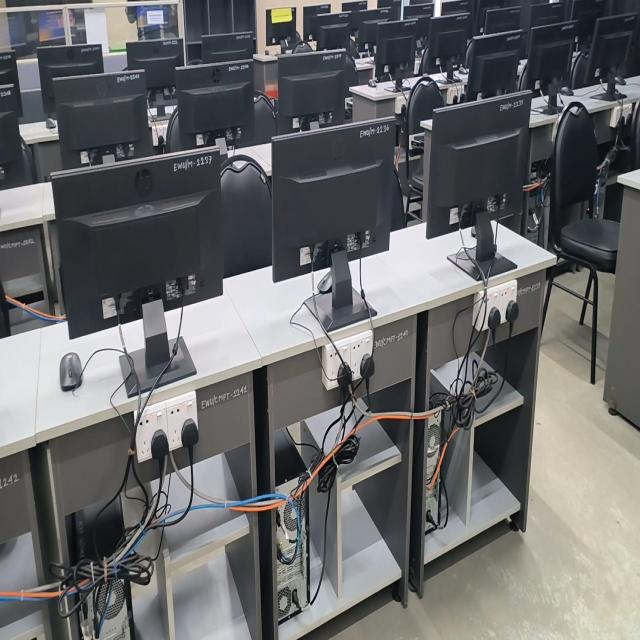Chair: (542, 103, 619, 383), (221, 155, 272, 278), (235, 91, 277, 147), (406, 76, 444, 134), (166, 107, 181, 152)
Cpu: (190, 457, 319, 620), (341, 382, 480, 533), (86, 578, 130, 639), (523, 174, 550, 247)
Monitor: (51, 148, 223, 339), (272, 119, 404, 281), (423, 92, 531, 239), (54, 71, 154, 169), (176, 59, 255, 148), (277, 51, 349, 133), (37, 44, 104, 116), (573, 14, 636, 87), (465, 30, 524, 101), (519, 23, 575, 92), (127, 39, 184, 92), (420, 14, 469, 73), (374, 21, 416, 78), (202, 31, 255, 63), (0, 50, 22, 116), (357, 9, 390, 50), (315, 13, 351, 50), (266, 8, 296, 45), (483, 7, 520, 34), (303, 4, 331, 39), (531, 4, 562, 27), (574, 11, 598, 37), (403, 0, 434, 19), (441, 0, 470, 15), (341, 0, 367, 12), (377, 0, 393, 8)
Mouse: (60, 352, 83, 391), (46, 116, 56, 130), (368, 79, 377, 87)
